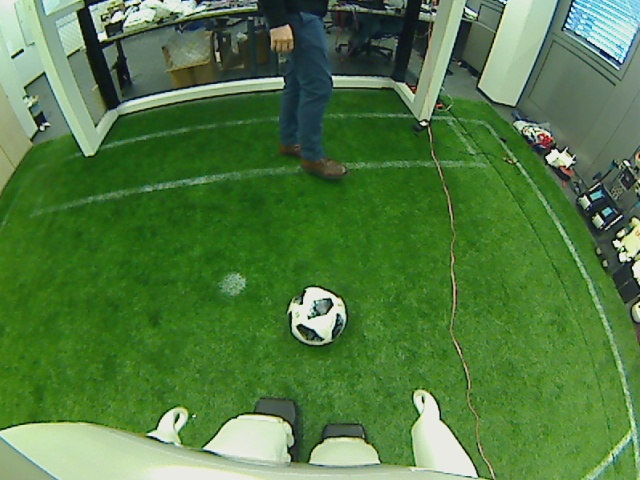ball: (285, 284, 348, 347)
